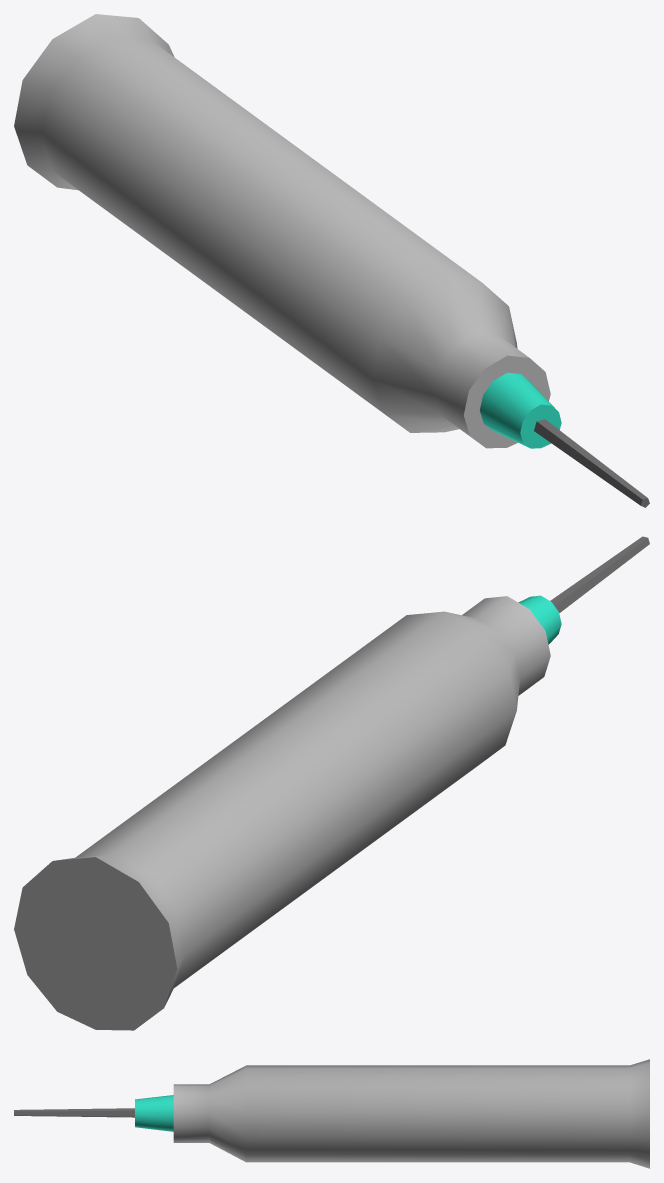
Rendered from Syringe.fbx.
The picture shows the model from 3 angles, top to bottom: view 1: azimuth 30°, elevation 25°; view 2: azimuth 150°, elevation 25°; view 3: azimuth 270°, elevation 25°; orthographic projection. The views are drawn at different scales.
Visible parts, largest first — view 1: Syringe; view 2: Syringe; view 3: Syringe.
Part boxes in pixels (box(x1,y1,x2,y2)): Syringe: box(14, 14, 649, 507); Syringe: box(14, 536, 649, 1030); Syringe: box(14, 1059, 649, 1168).
Size of the model in its own units: 24.83 by 25.1 by 145.
